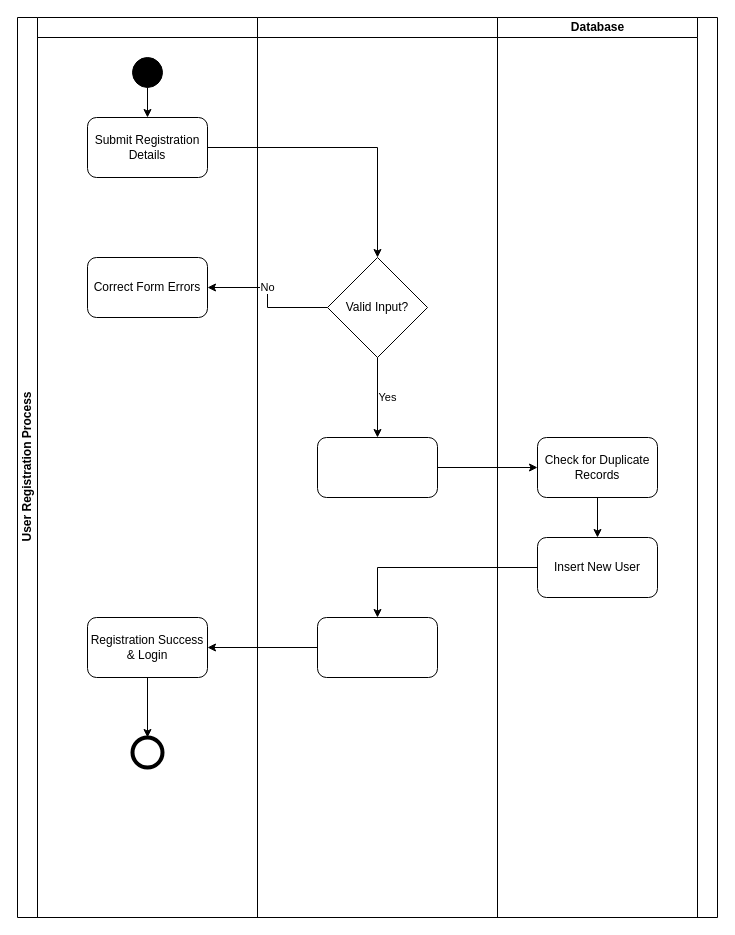
The diagram is 735 pixels wide and 935 high, and some of its shapes have lost their labels. Each missing label, with the box of its shape:
Confirm Success & Send Email: (316, 616, 438, 678)
Encrypt Password & Request Create: (316, 436, 438, 498)
Grand Azure System: (256, 16, 498, 918)
Guest / Customer: (36, 16, 258, 918)
